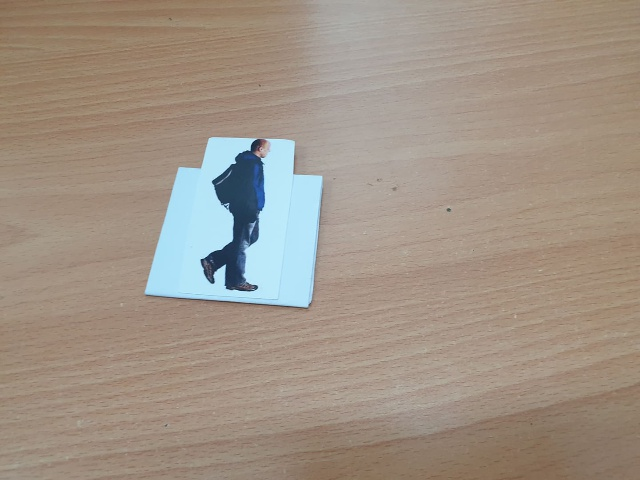Person: (208, 138, 267, 292)
